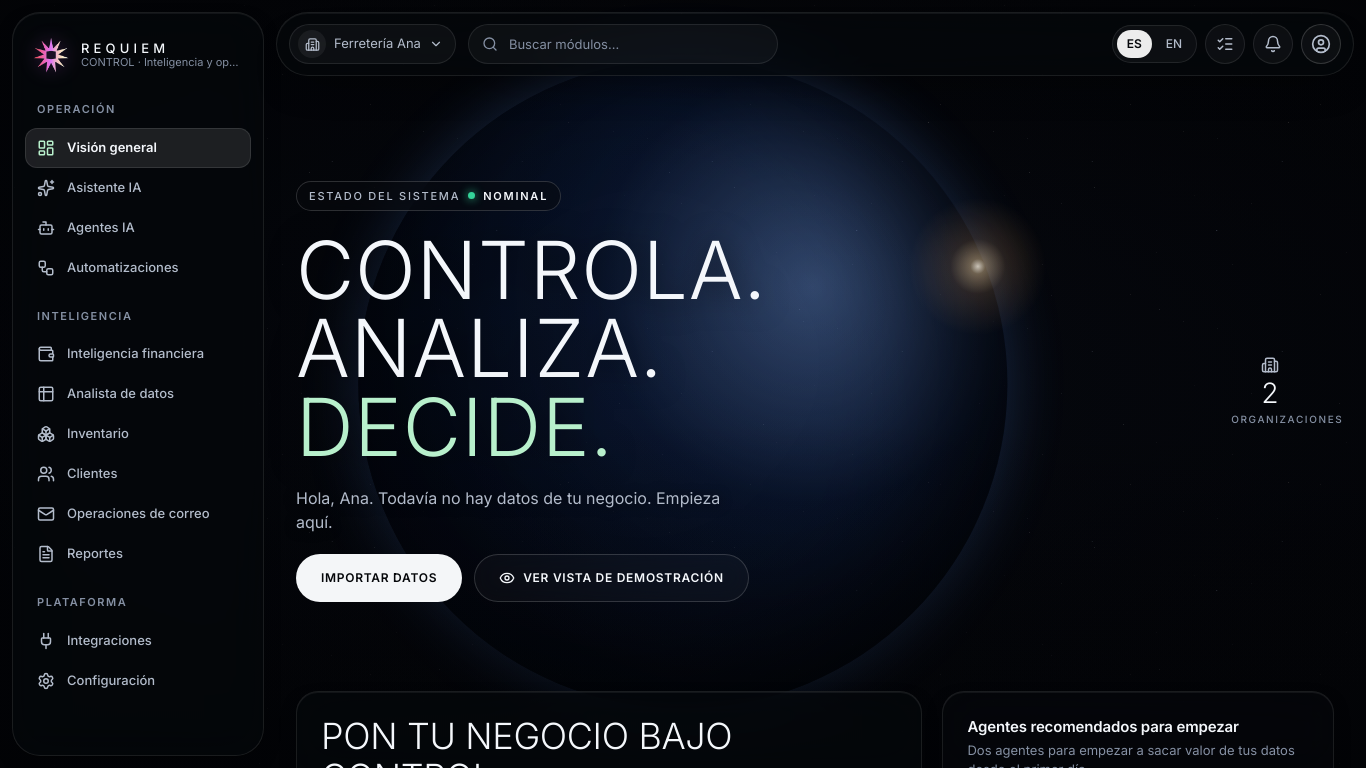
Test: dashboard › toggles between onboarding and demo
Click the button "Ver vista de demostración": coordinates (612, 578) [474,554,749,602]
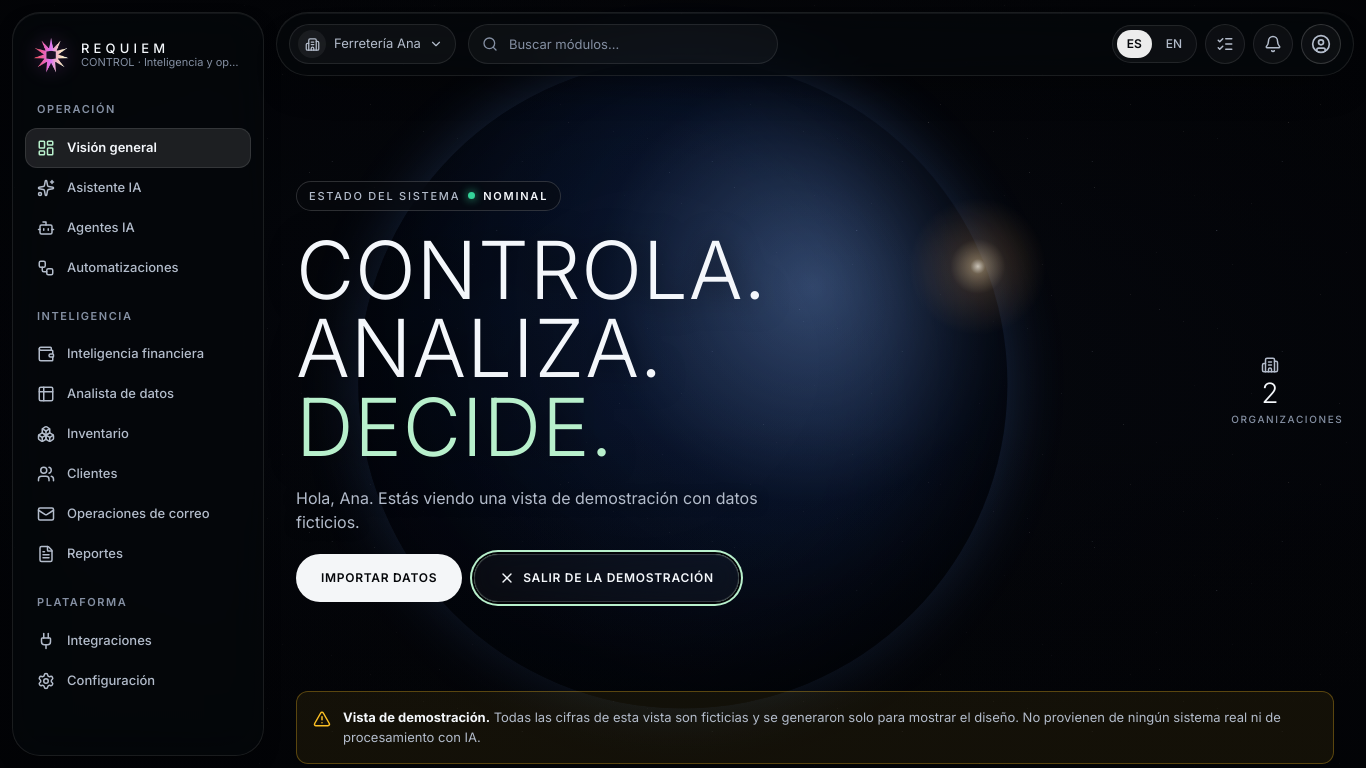
Result: the element with test id "demo-banner" is shown at [296,691,1334,764]
Click the button "Salir de la demostración": coordinates (606, 578) [474,554,739,602]
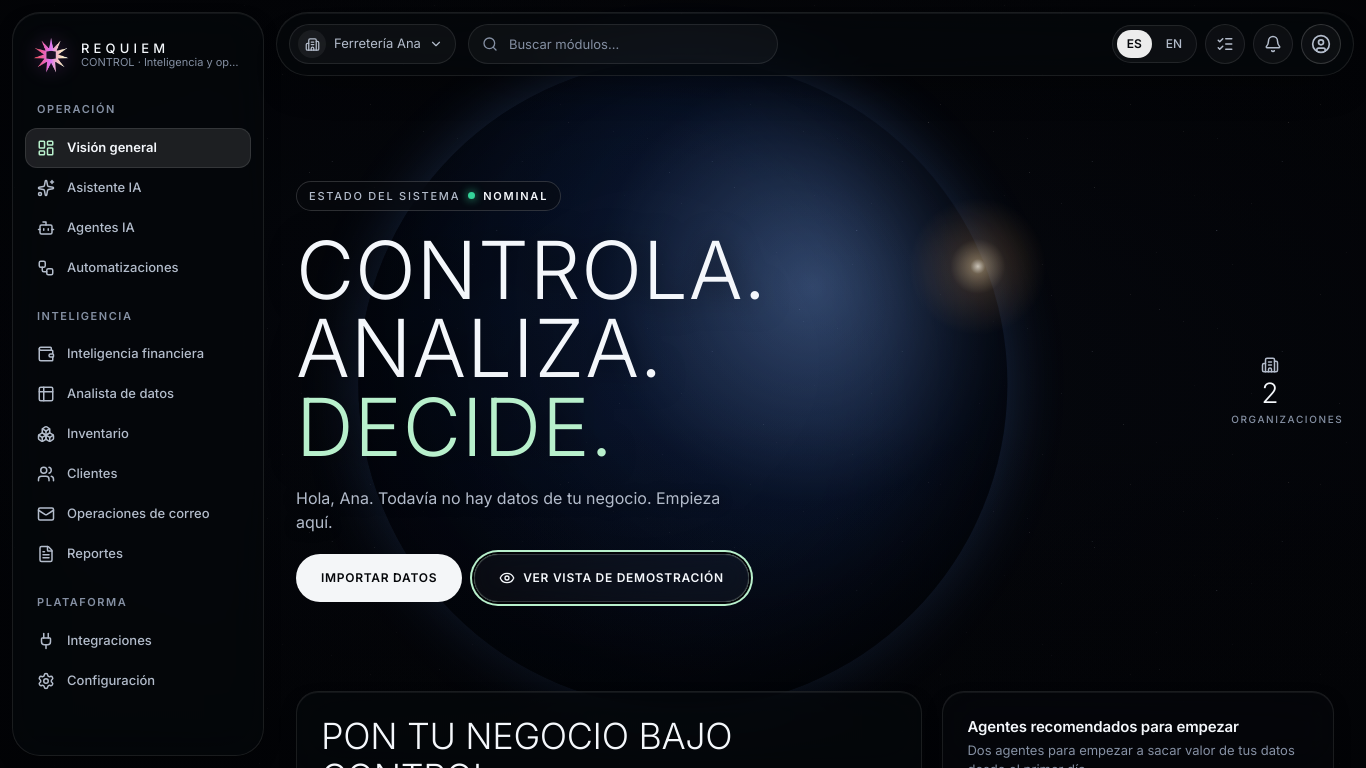
Result: the element with test id "demo-banner" is gone
